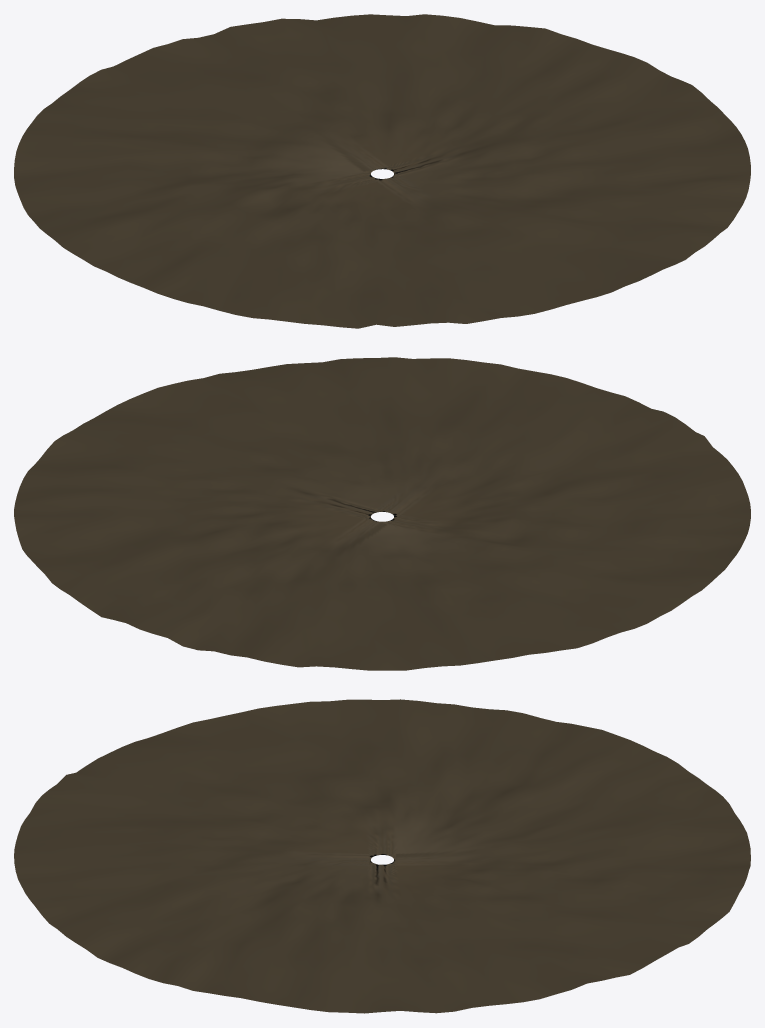
The model's file is gobeklitepe-d-yapisi-skirt.glb.
3 views of the same model, one above another, from view 1: azimuth 30°, elevation 25°; view 2: azimuth 150°, elevation 25°; view 3: azimuth 270°, elevation 25° (orthographic).
Parts seen in each view (by area): view 1: gobeklitepe-d-yapisi-skirt; view 2: gobeklitepe-d-yapisi-skirt; view 3: gobeklitepe-d-yapisi-skirt.
Part boxes in pixels (x1,y1,x2,y2): gobeklitepe-d-yapisi-skirt: [14, 14, 750, 328]; gobeklitepe-d-yapisi-skirt: [14, 357, 750, 670]; gobeklitepe-d-yapisi-skirt: [14, 699, 750, 1013].
Bounding box in the file's own units: 8400 × 91.29 × 8400.
